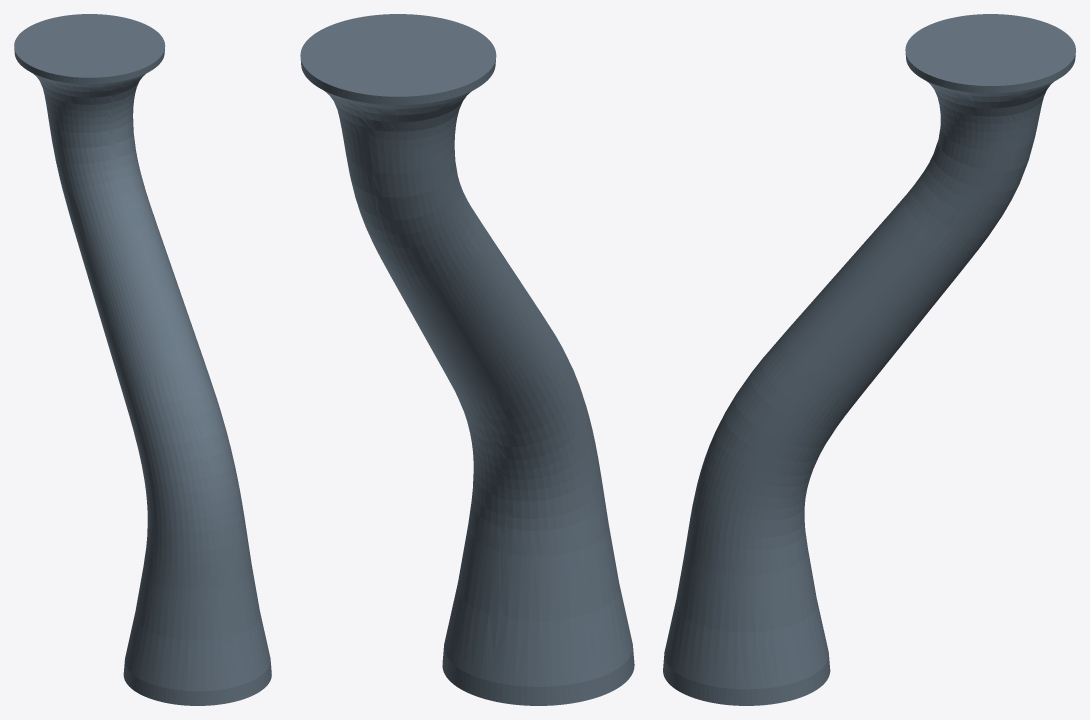
3 views of the same model, side by side, from view 1: azimuth 30°, elevation 25°; view 2: azimuth 150°, elevation 25°; view 3: azimuth 270°, elevation 25° (orthographic). The views are drawn at different scales.
Parts seen in each view (by area): view 1: MF1013_4_0; view 2: MF1013_4_0; view 3: MF1013_4_0.
Part boxes in pixels (left/top/right/bottom): MF1013_4_0: left=14, top=14, right=271, bottom=705; MF1013_4_0: left=300, top=14, right=634, bottom=705; MF1013_4_0: left=663, top=14, right=1075, bottom=705.
Size of the model in its own units: 102 by 247 by 409.
